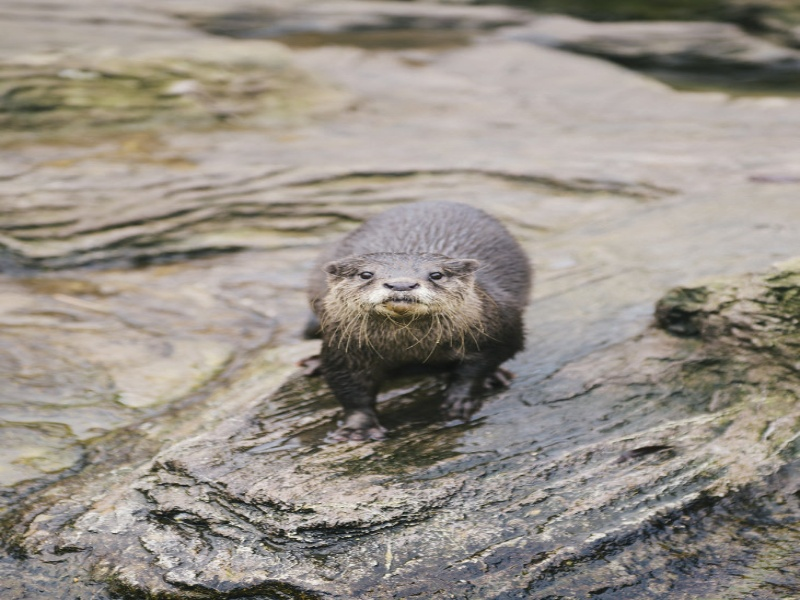minkish: (298, 199, 540, 431)
